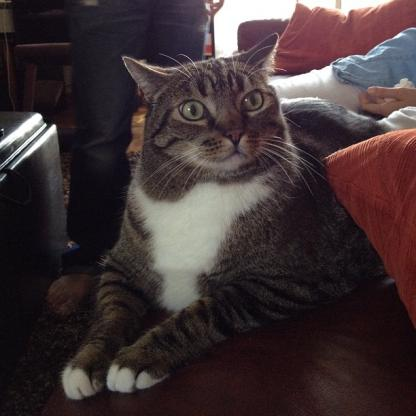Target: (56, 29, 405, 400)
